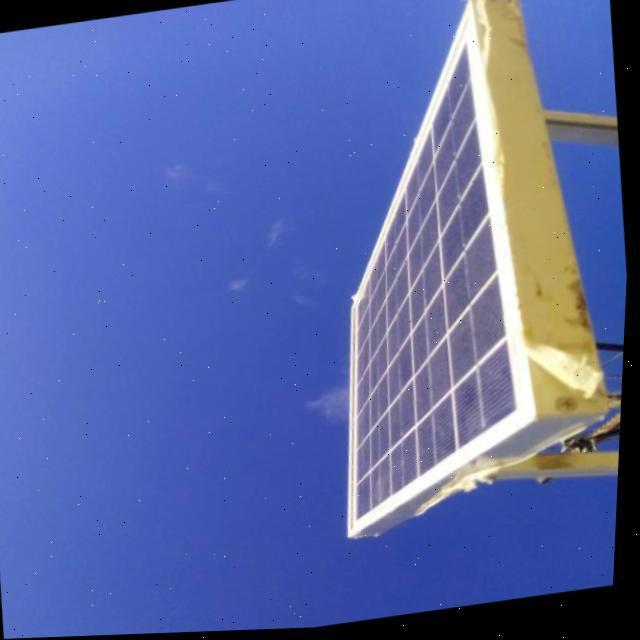Normal Solar Panel: (297, 0, 568, 541)
